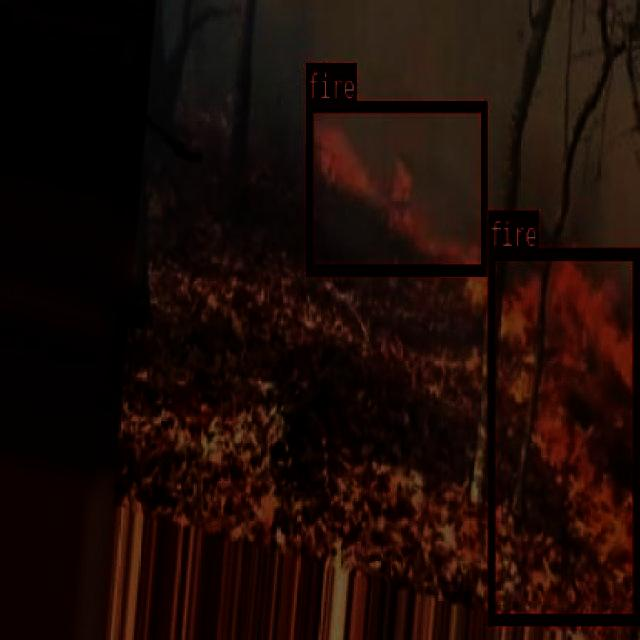fire: (487, 247, 638, 621), (306, 99, 485, 272)
